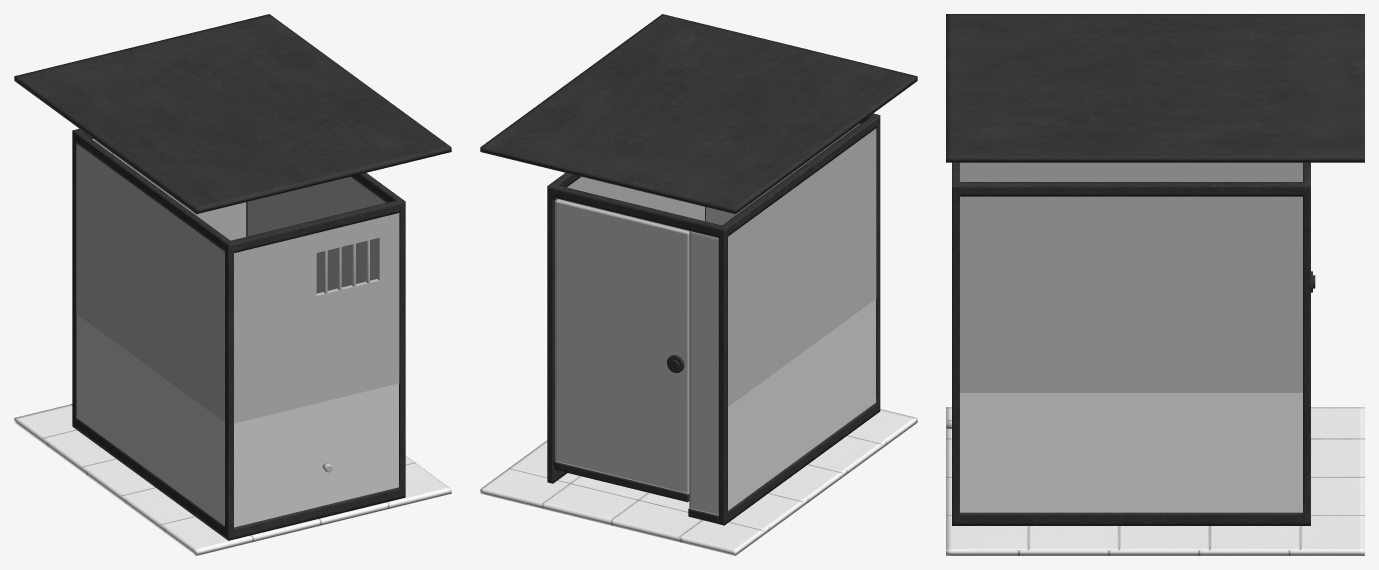
File: toilet_3_1.fbx
The picture shows the model from 3 angles, left to right: view 1: azimuth 30°, elevation 25°; view 2: azimuth 150°, elevation 25°; view 3: azimuth 270°, elevation 25°; orthographic projection. The views are drawn at different scales.
Visible parts, largest first — view 1: floor.001, Mwall_up, Rwall_up, Mwall_down, edges, Rwall_down, floor, Lwall_up, 门大; view 2: floor.001, 门大, Rwall_up, floor, Rwall_down, edges, 门小, Lwall_up, Mwall_up; view 3: Lwall_up, floor.001, Lwall_down, floor, edges, Rwall_up.
Part boxes in pixels (bbox=[...]): floor.001: bbox=[14, 14, 451, 214]; Mwall_up: bbox=[234, 213, 399, 423]; Rwall_up: bbox=[76, 143, 224, 422]; Mwall_down: bbox=[234, 383, 398, 527]; edges: bbox=[72, 128, 405, 540]; Rwall_down: bbox=[76, 314, 224, 525]; floor: bbox=[14, 404, 451, 555]; Lwall_up: bbox=[247, 176, 385, 293]; 门大: bbox=[112, 152, 246, 240]; floor.001: bbox=[480, 14, 917, 214]; 门大: bbox=[554, 199, 689, 502]; Rwall_up: bbox=[728, 128, 876, 406]; floor: bbox=[480, 409, 917, 555]; Rwall_down: bbox=[728, 299, 875, 510]; edges: bbox=[547, 113, 880, 525]; 门小: bbox=[688, 231, 718, 523]; Lwall_up: bbox=[556, 176, 704, 230]; Mwall_up: bbox=[706, 123, 860, 225]; Lwall_up: bbox=[960, 196, 1302, 392]; floor.001: bbox=[946, 14, 1364, 162]; Lwall_down: bbox=[960, 393, 1302, 512]; floor: bbox=[946, 407, 1364, 555]; edges: bbox=[952, 162, 1310, 525]; Rwall_up: bbox=[960, 162, 1302, 181].
Size of the model in its own units: 358 by 465 by 442.
